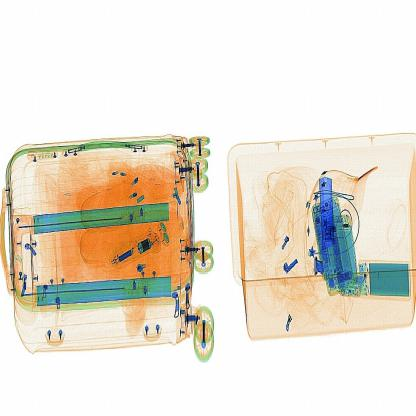pliers: (316, 175, 336, 259)
